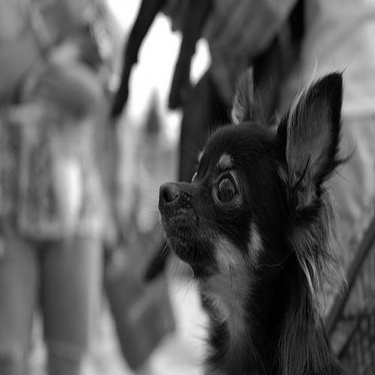dog: (140, 62, 353, 371)
